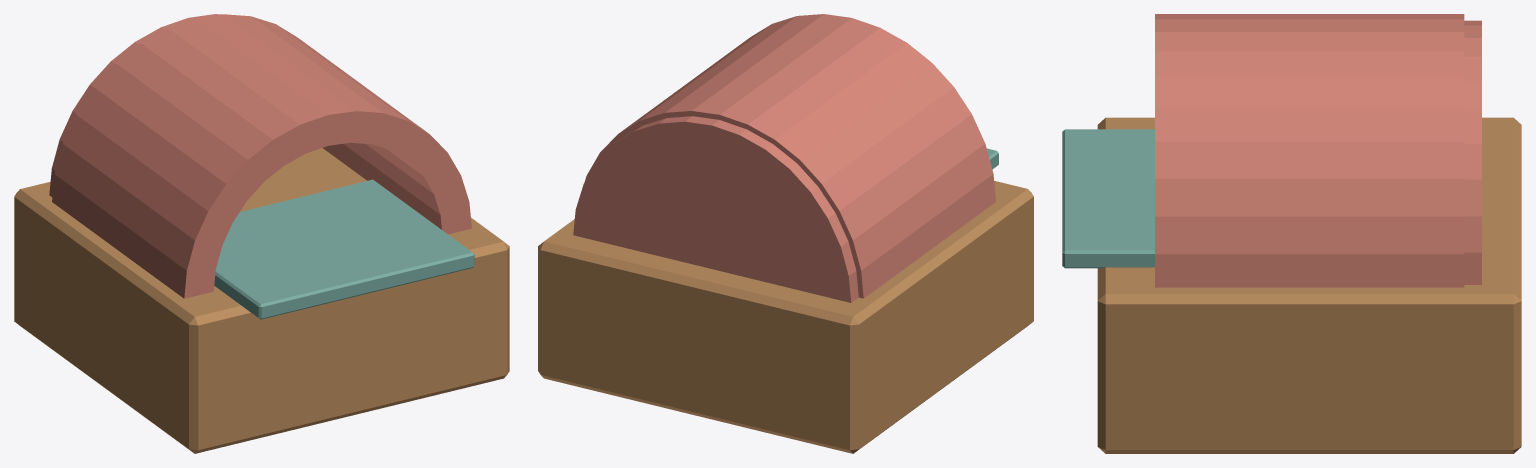
The picture shows the model from 3 angles, left to right: view 1: azimuth 30°, elevation 25°; view 2: azimuth 150°, elevation 25°; view 3: azimuth 270°, elevation 25°; orthographic projection. The views are drawn at different scales.
Parts seen in each view (by area): view 1: bakery-vaulted-oven-01; view 2: bakery-vaulted-oven-01; view 3: bakery-vaulted-oven-01.
Boxes of the visible parts, x1=… form: bakery-vaulted-oven-01: x1=14, y1=14, x2=509, y2=453; bakery-vaulted-oven-01: x1=538, y1=14, x2=1033, y2=453; bakery-vaulted-oven-01: x1=1062, y1=14, x2=1521, y2=453.
Size of the model in its own units: 0.98 by 0.834 by 1.04.
